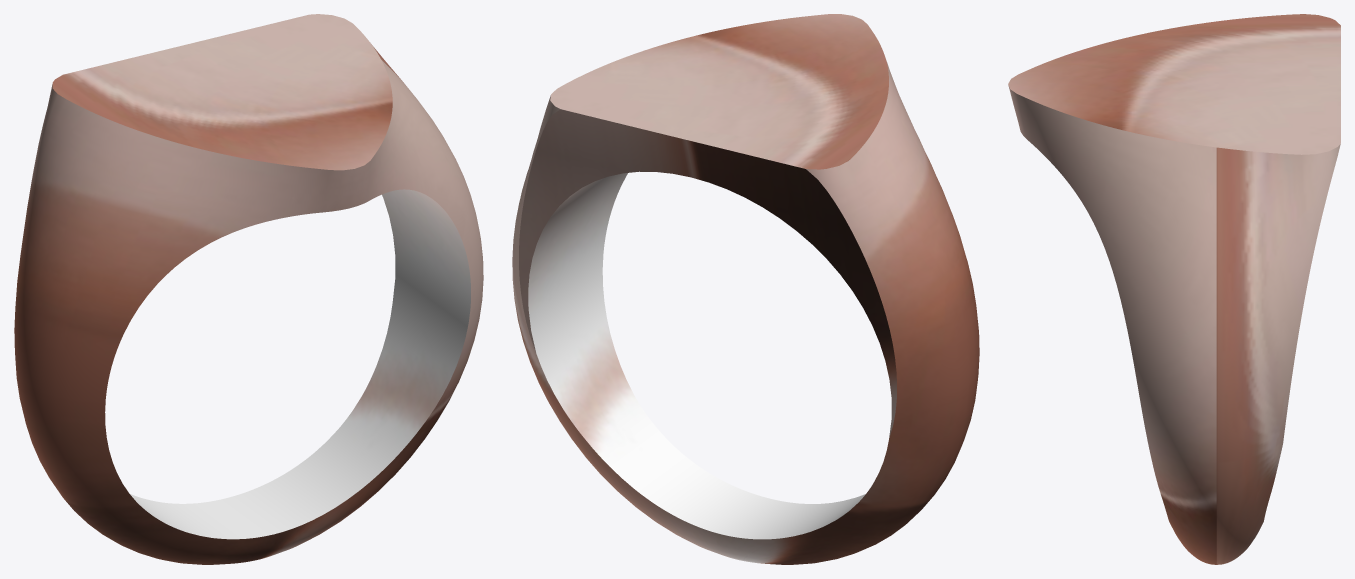
The model's file is Anilloformastriangulo.glb.
3 views of the same model, side by side, from view 1: azimuth 30°, elevation 25°; view 2: azimuth 150°, elevation 25°; view 3: azimuth 270°, elevation 25° (orthographic).
Parts seen in each view (by area): view 1: Objeto_50.52; view 2: Objeto_50.52; view 3: Objeto_50.52.
Boxes of the visible parts, box(x1,y1,x2,y2) form: Objeto_50.52: box(14, 14, 483, 564); Objeto_50.52: box(512, 14, 979, 564); Objeto_50.52: box(1008, 14, 1340, 564).
Size of the model in its own units: 21.35 by 21.15 by 13.97.
Materials: 1 (1 with a texture image).
